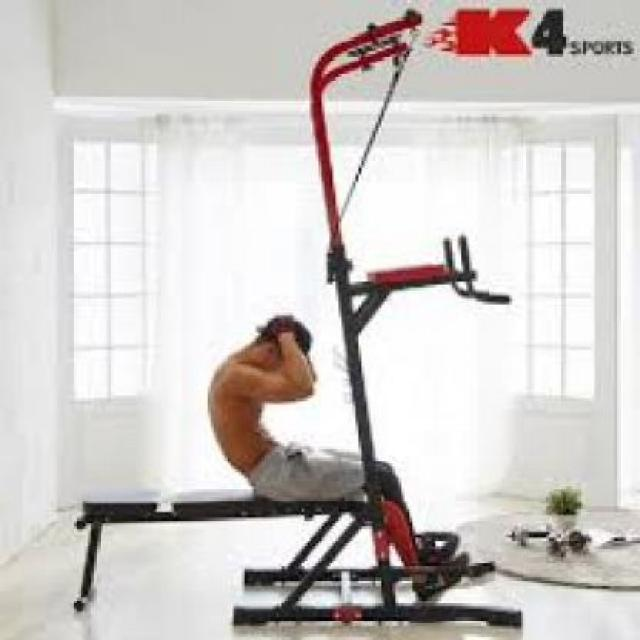chinning dipping: (312, 60, 526, 631)
